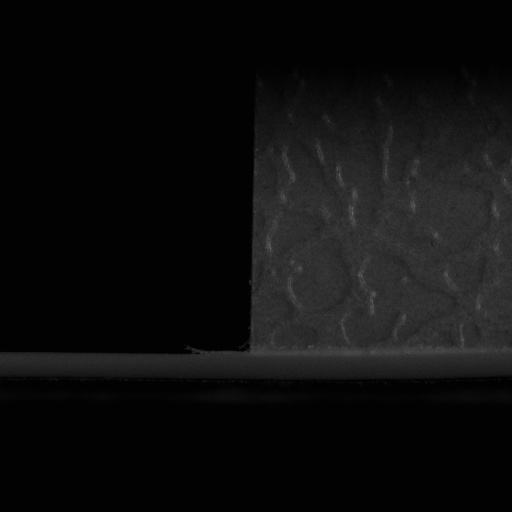changdai: (3, 349, 251, 383)
